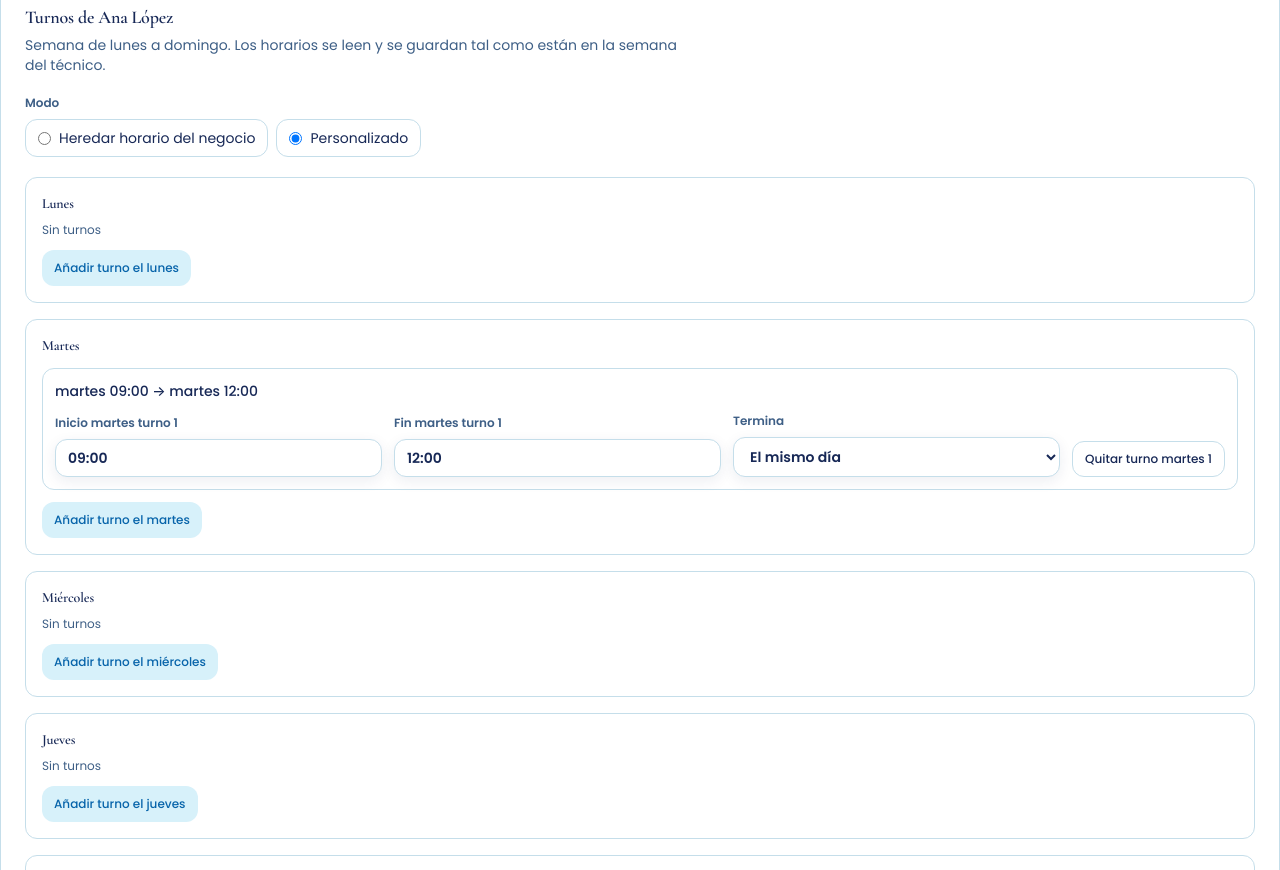
TechnicianWeekEditor › shows success only after save and reloads the raw week
Replace the text in the field labelled "Fin martes turno 1" with "15:00" at (558, 458), box [394,439,721,477]
(page scrolled)
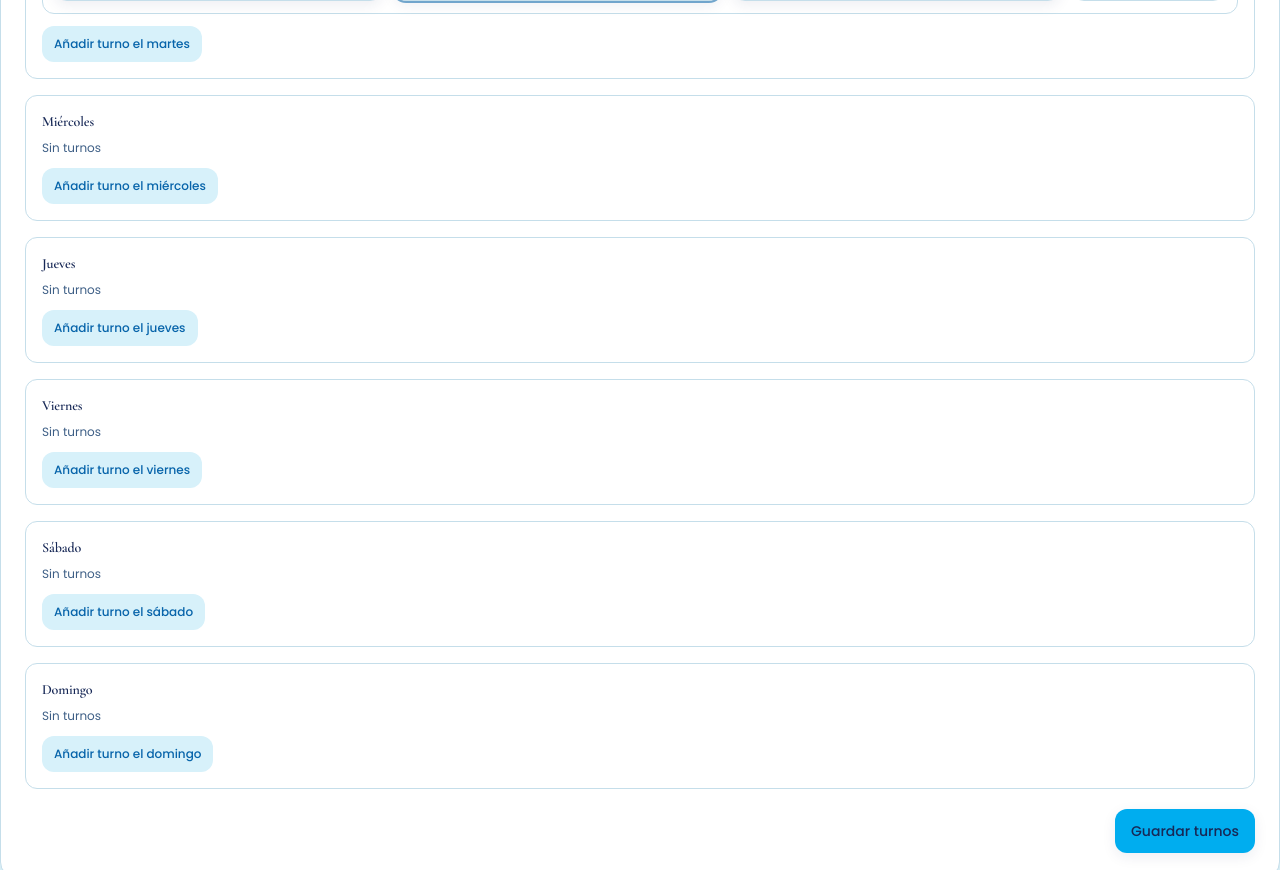
Click the button "Guardar turnos" at (1185, 831), box [1115,809,1255,853]
(page scrolled)
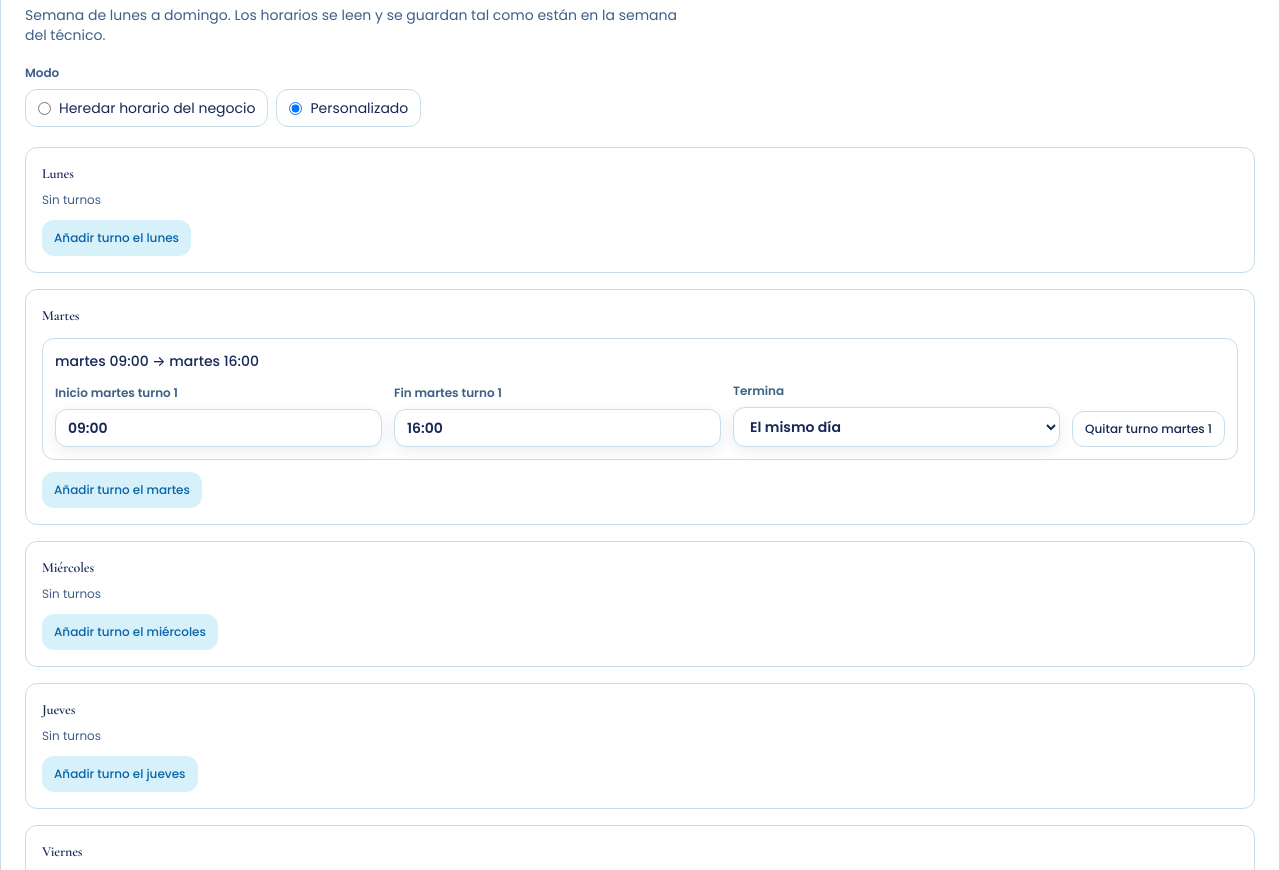
Check: the field labelled "Fin martes turno 1" holds "16:00", box [394,409,721,447]
